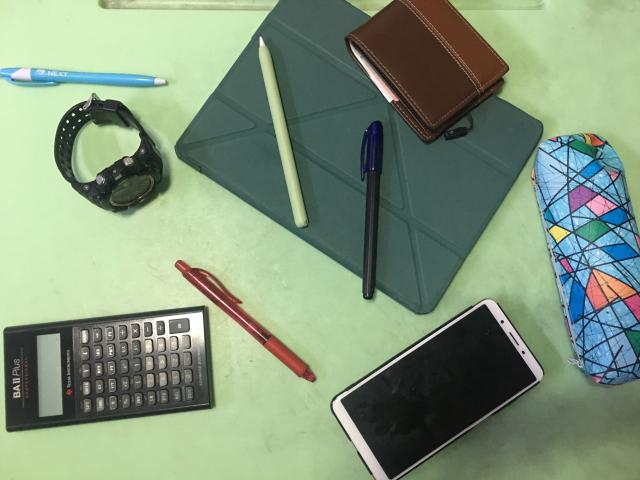Mobile phone: (331, 299, 544, 479)
Pen: (175, 260, 315, 382), (361, 122, 385, 302), (0, 68, 170, 90)
Wallet: (345, 0, 510, 143)
Watch: (54, 99, 171, 216)
